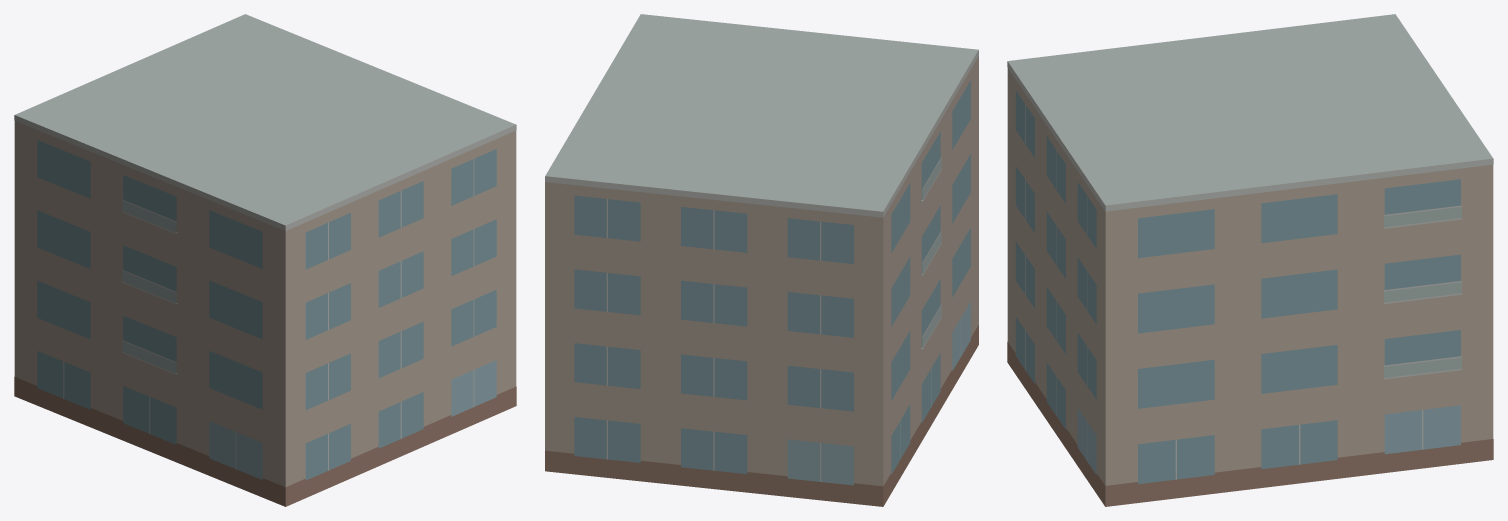
File: residential-5804ebe7-edcc-49b7-8243-549d08ae1d85.glb
3 renders of one model, left to right at view 1: azimuth 30°, elevation 25°; view 2: azimuth 150°, elevation 25°; view 3: azimuth 270°, elevation 25°, orthographic. The views are drawn at different scales.
Visible parts, largest first — view 1: residential-5804ebe7-edcc-49b7-8243-549d08ae1d85.tmp; view 2: residential-5804ebe7-edcc-49b7-8243-549d08ae1d85.tmp; view 3: residential-5804ebe7-edcc-49b7-8243-549d08ae1d85.tmp.
Boxes of the visible parts, <box> form: residential-5804ebe7-edcc-49b7-8243-549d08ae1d85.tmp: <box>14,14,516,506</box>; residential-5804ebe7-edcc-49b7-8243-549d08ae1d85.tmp: <box>545,14,978,506</box>; residential-5804ebe7-edcc-49b7-8243-549d08ae1d85.tmp: <box>1007,14,1493,506</box>.
Size of the model in its own units: 16.65 by 12.2 by 17.84.
